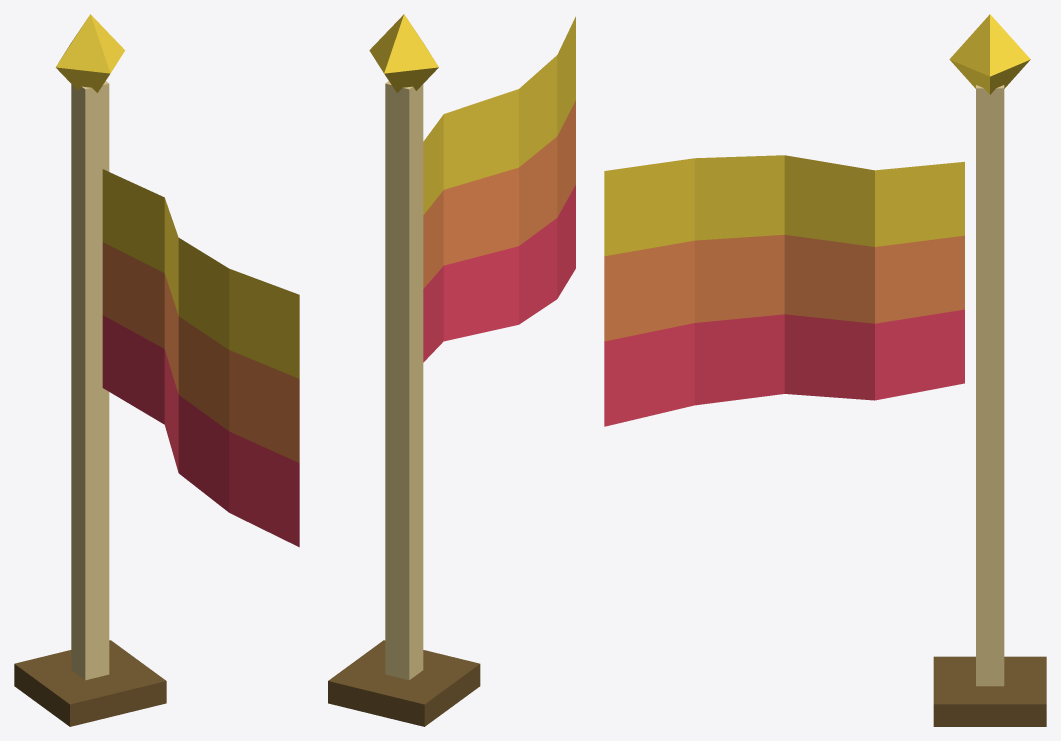
File: practice_checkpoint_flag.obj
3 renders of one model, left to right at view 1: azimuth 30°, elevation 25°; view 2: azimuth 150°, elevation 25°; view 3: azimuth 270°, elevation 25°, orthographic.
Visible parts, largest first — view 1: practice_checkpoint_flag; view 2: practice_checkpoint_flag; view 3: practice_checkpoint_flag.
Part boxes in pixels (box(x1,y1,x2,y2)): practice_checkpoint_flag: box(14, 14, 299, 726); practice_checkpoint_flag: box(328, 14, 575, 726); practice_checkpoint_flag: box(604, 14, 1046, 726).
Size of the model in its own units: 0.36 by 2.43 by 1.41.
